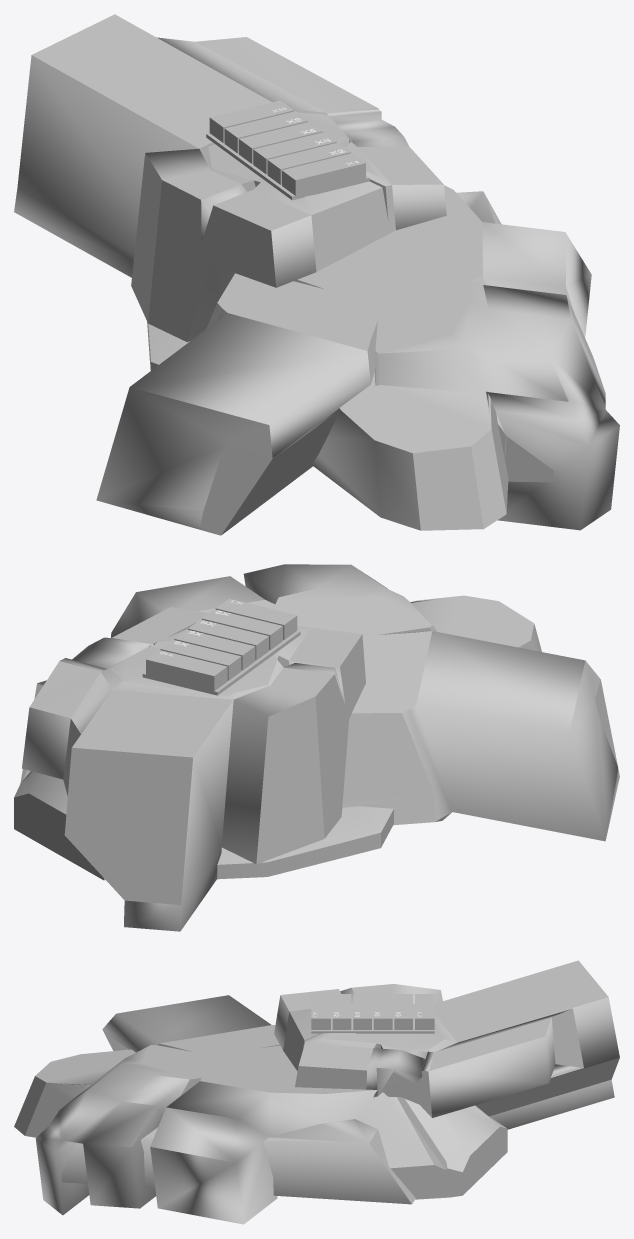
The model's file is iceplatform.fbx.
The picture shows the model from 3 angles, top to bottom: view 1: azimuth 30°, elevation 25°; view 2: azimuth 150°, elevation 25°; view 3: azimuth 270°, elevation 25°; orthographic projection. The views are drawn at different scales.
Parts seen in each view (by area): view 1: Cube.005, Cube.002; view 2: Cube.005, Cube.002; view 3: Cube.005, Cube.002.
Boxes of the visible parts, box(x1,y1,x2,y2) form: Cube.005: box(14, 14, 619, 535); Cube.002: box(206, 100, 369, 200); Cube.005: box(14, 564, 619, 931); Cube.002: box(142, 598, 300, 695); Cube.005: box(14, 960, 619, 1224); Cube.002: box(311, 994, 434, 1033).
Bounding box in the file's own units: 1498 × 702 × 2173.
